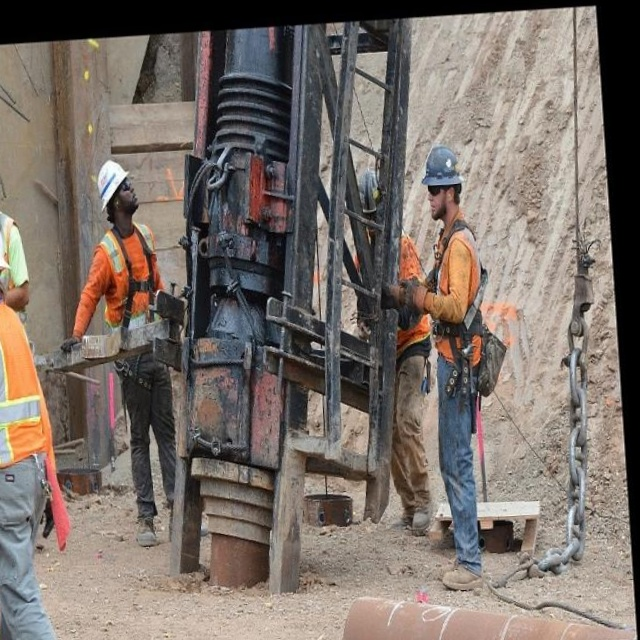Con_Casco: (419, 143, 465, 220), (97, 158, 141, 220), (0, 212, 11, 296)
Con_Chaleco: (0, 298, 49, 488), (95, 220, 163, 325)
